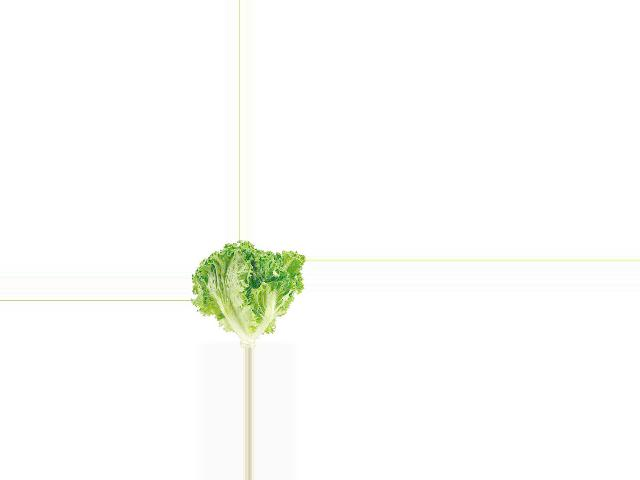lettuce: (191, 241, 304, 348)
